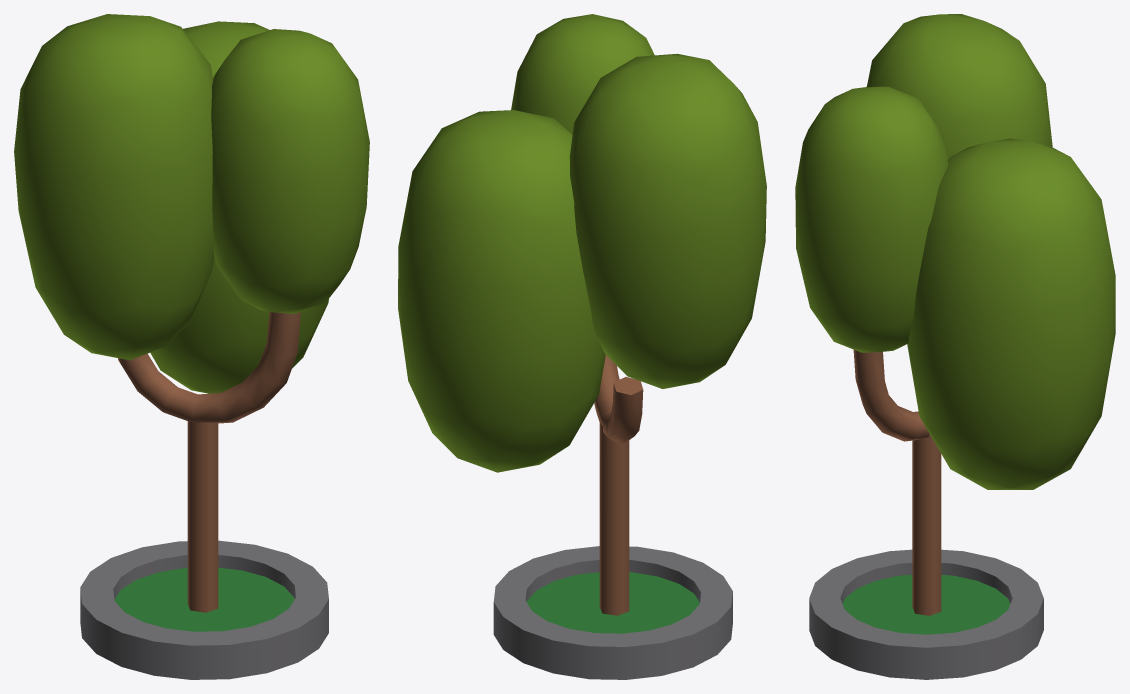
File: tree_v6.fbx
3 renders of one model, left to right at view 1: azimuth 30°, elevation 25°; view 2: azimuth 150°, elevation 25°; view 3: azimuth 270°, elevation 25°, orthographic. The views are drawn at different scales.
Visible parts, largest first — view 1: tree_v6; view 2: tree_v6; view 3: tree_v6.
Boxes of the visible parts, left/top/right/bottom form: tree_v6: left=14, top=14, right=369, bottom=679; tree_v6: left=398, top=14, right=766, bottom=679; tree_v6: left=795, top=14, right=1115, bottom=679.
Size of the model in its own units: 207 by 371 by 188.
